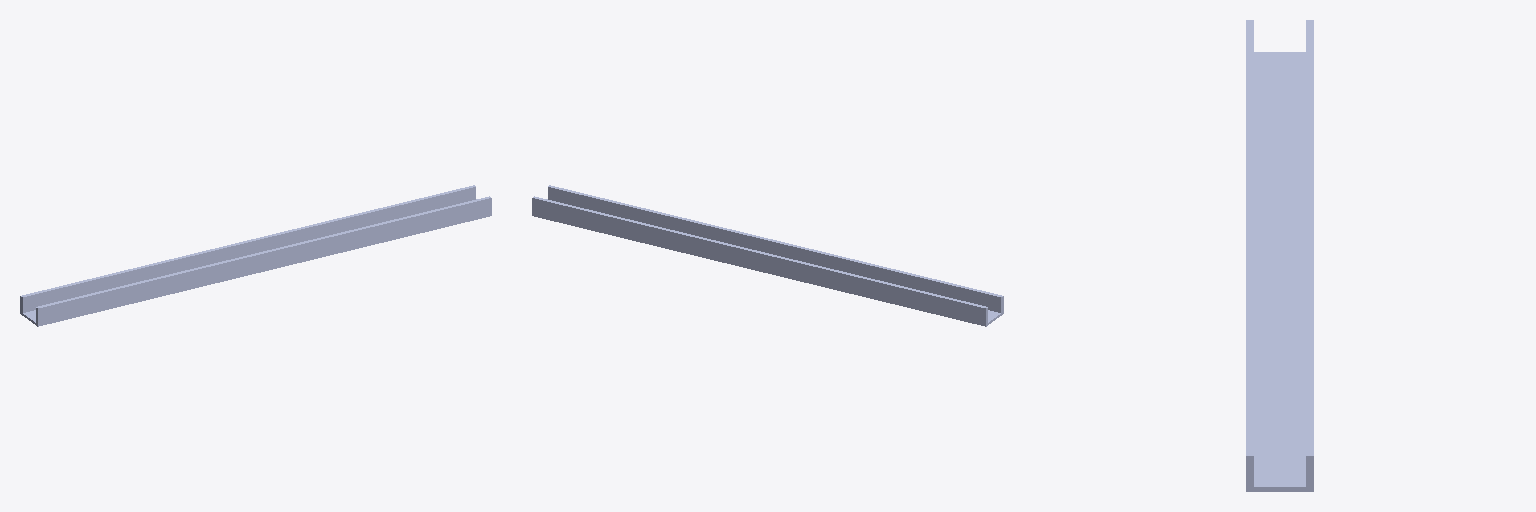
URDF robot description (Assembly_mounting_rod_v3):
<?xml version="1.0" encoding="utf-8"?>
<!-- This URDF was automatically created by SolidWorks to URDF Exporter! Originally created by [author] ([email redacted]) 
     Commit Version: 1.6.0-4-g7f85cfe  Build Version: 1.6.7995.38578
     For more information, please see http://wiki.ros.org/sw_urdf_exporter -->
<robot
  name="Assembly_mounting_rod_v3">
  <link
    name="base_link">
    <inertial>
      <origin
        xyz="1.7647E-17 -2.9145E-17 0.0086875"
        rpy="0 0 0" />
      <mass
        value="0.192" />
      <inertia
        ixx="5.6605E-05"
        ixy="-1.5621E-19"
        ixz="-6.2204E-21"
        iyy="0.00577"
        iyz="-1.3047E-19"
        izz="0.0058066" />
    </inertial>
    <visual>
      <origin
        xyz="0 0 0"
        rpy="0 0 0" />
      <geometry>
        <mesh
          filename="package://Assembly_mounting_rod_v3/meshes/base_link.STL" />
      </geometry>
      <material
        name="">
        <color
          rgba="0.79216 0.81961 0.93333 1" />
      </material>
    </visual>
    <collision>
      <origin
        xyz="0 0 0"
        rpy="0 0 0" />
      <geometry>
        <mesh
          filename="package://Assembly_mounting_rod_v3/meshes/base_link.STL" />
      </geometry>
    </collision>
  </link>
</robot>

--- Render facts (derived) ---
The picture shows the robot from 3 angles, left to right: view 1: azimuth 30°, elevation 25°; view 2: azimuth 150°, elevation 25°; view 3: azimuth 270°, elevation 25°; orthographic projection.
Robot: Assembly_mounting_rod_v3 — 1 links, 0 joints (none); root link base_link; default pose: all joints at 0.
Visible links, largest first — view 1: base_link; view 2: base_link; view 3: base_link.
Link boxes in pixels (bbox=[...]): base_link: bbox=[20, 185, 491, 326]; base_link: bbox=[532, 185, 1003, 326]; base_link: bbox=[1246, 20, 1313, 491].
Bounding box of the posed robot: 0.6 × 0.04 × 0.023 m (x, y, z).
1 mesh visuals loaded from 1 distinct referenced files (1 binary STL).